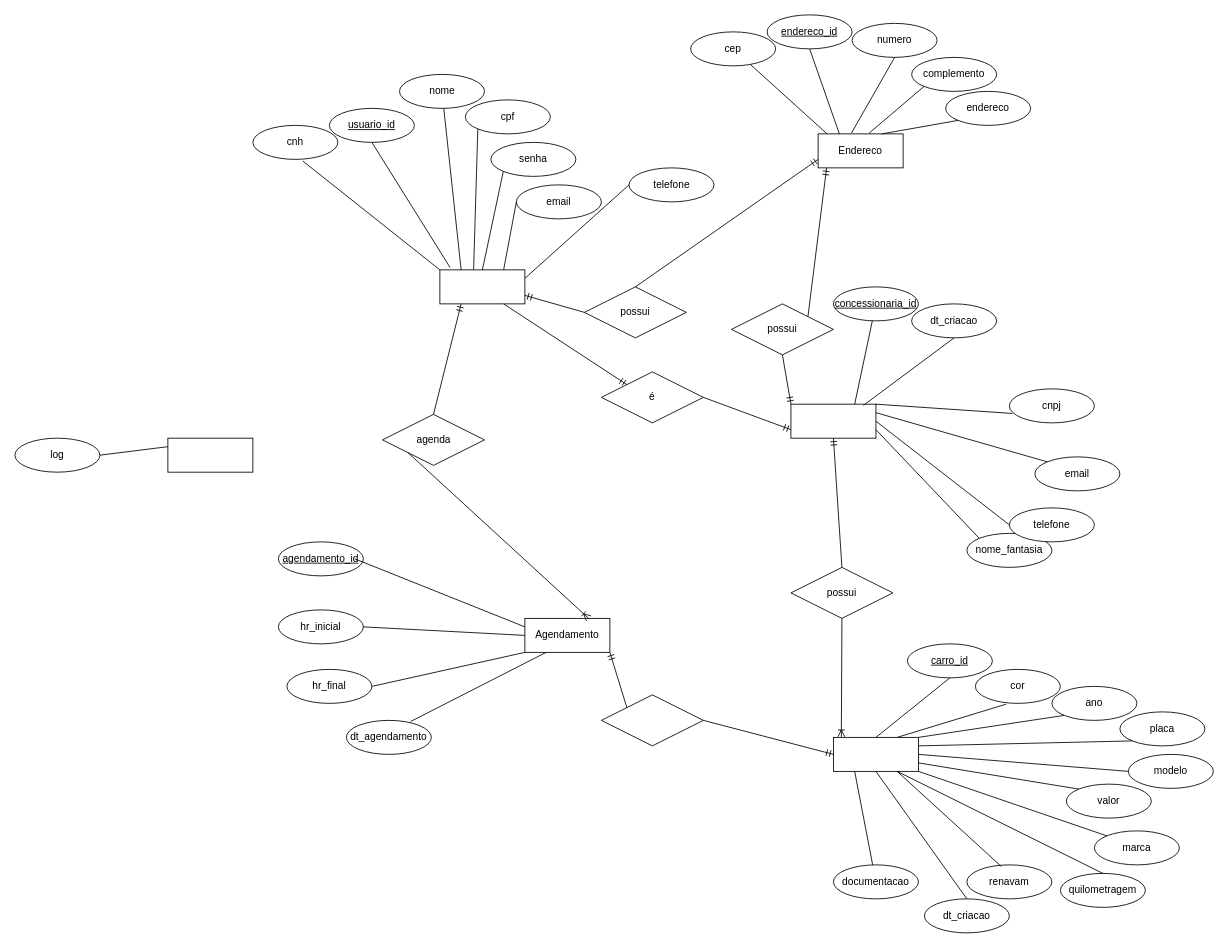
Image size: 1228x948. Some labels were removed from this diagram. The shapes that lost their labels are listed below. From the top down, each one's box as (x1, y1, x2, y2) in pixels, then its label:
(439, 269, 525, 304): Usuario
(790, 403, 876, 438): Concessionaria
(167, 437, 253, 472): System_log
(601, 694, 703, 746): agendado
(833, 737, 918, 771): Carro
